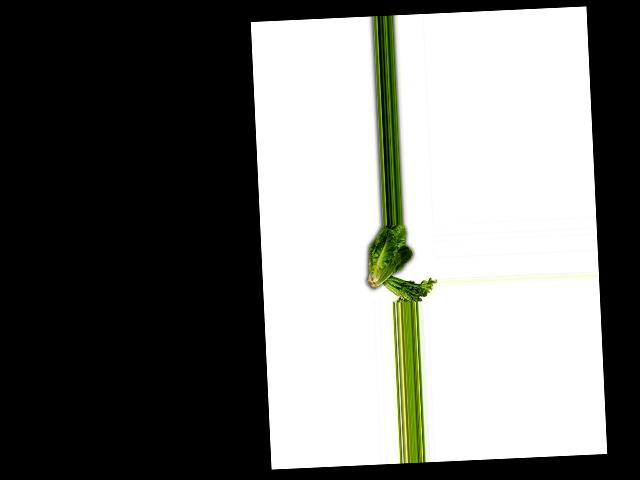lettuce: (367, 223, 419, 291)
